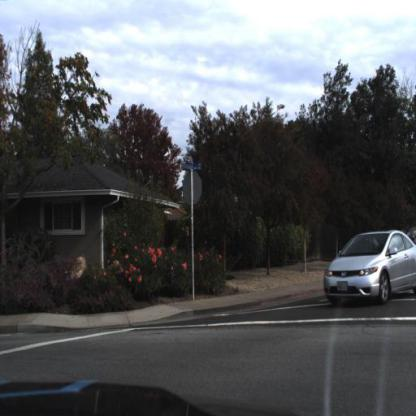car: (325, 230, 416, 308)
